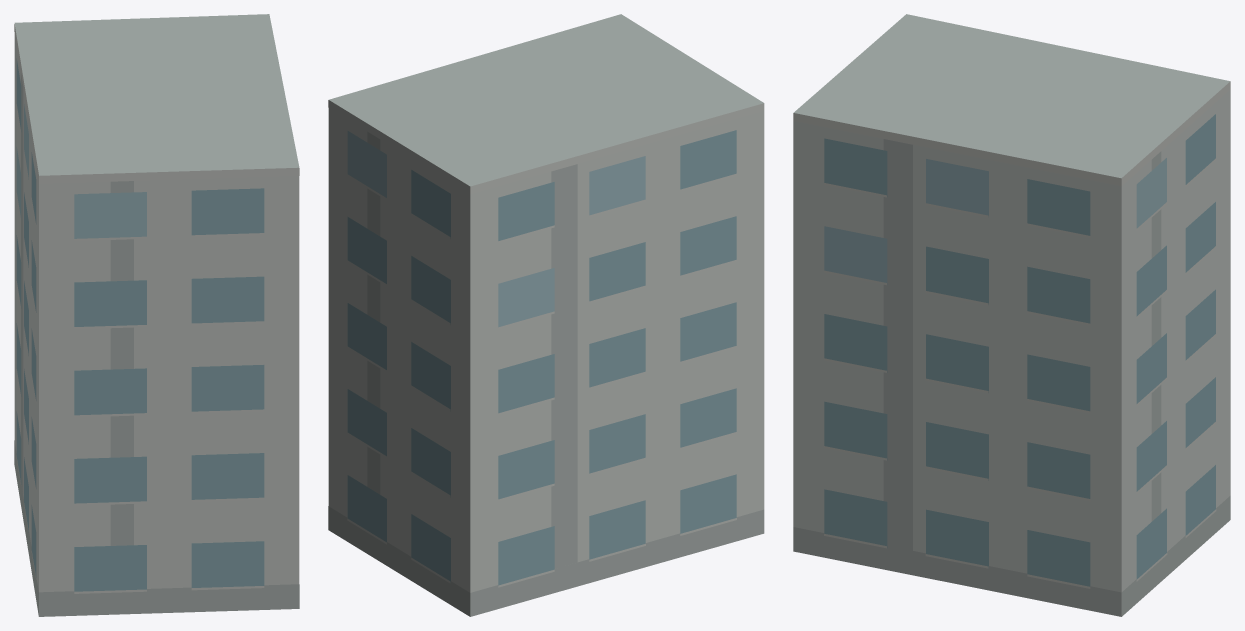
The model's file is survey-upis-32728729.glb.
3 views of the same model, side by side, from view 1: azimuth 30°, elevation 25°; view 2: azimuth 150°, elevation 25°; view 3: azimuth 270°, elevation 25° (orthographic). The views are drawn at different scales.
Parts seen in each view (by area): view 1: survey-upis-32728729.tmp; view 2: survey-upis-32728729.tmp; view 3: survey-upis-32728729.tmp.
Part boxes in pixels (left/top/right/bottom): survey-upis-32728729.tmp: left=14, top=14, right=299, bottom=616; survey-upis-32728729.tmp: left=328, top=14, right=764, bottom=616; survey-upis-32728729.tmp: left=793, top=14, right=1230, bottom=616.
Size of the model in its own units: 10.61 by 13.2 by 11.93.
